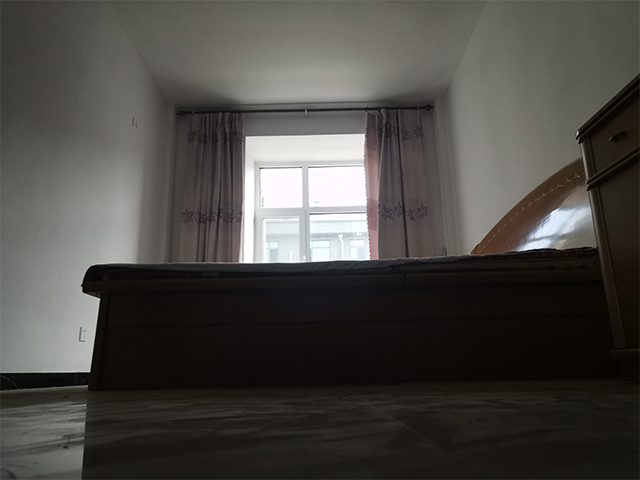bed: (74, 157, 613, 393)
cabinet: (572, 72, 640, 383)
curtain: (360, 104, 449, 255), (162, 108, 240, 264)
